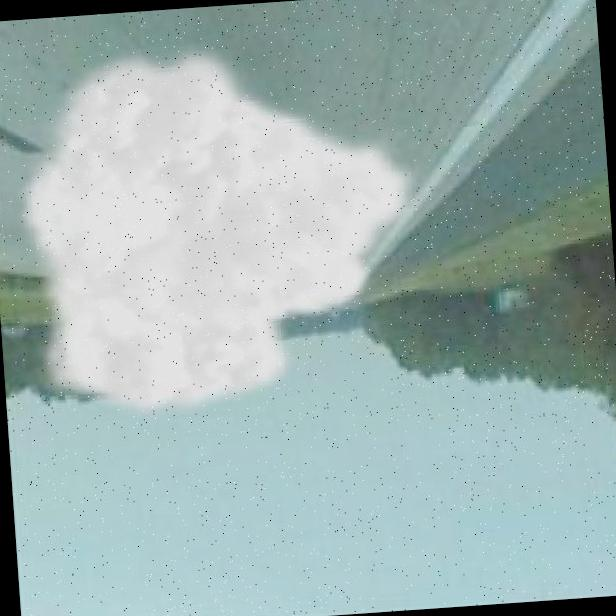smoke: (26, 55, 405, 416)
